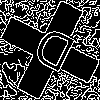D: (25, 25, 79, 83)
